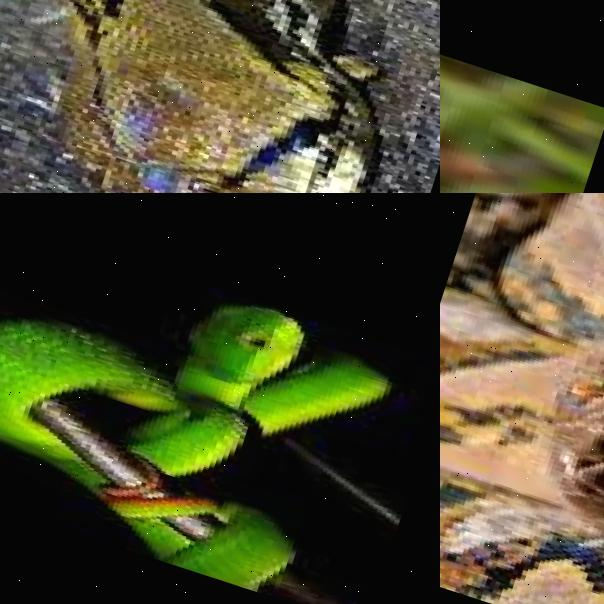snake: (0, 200, 417, 604), (0, 0, 440, 193), (440, 193, 604, 604), (440, 86, 569, 193)
